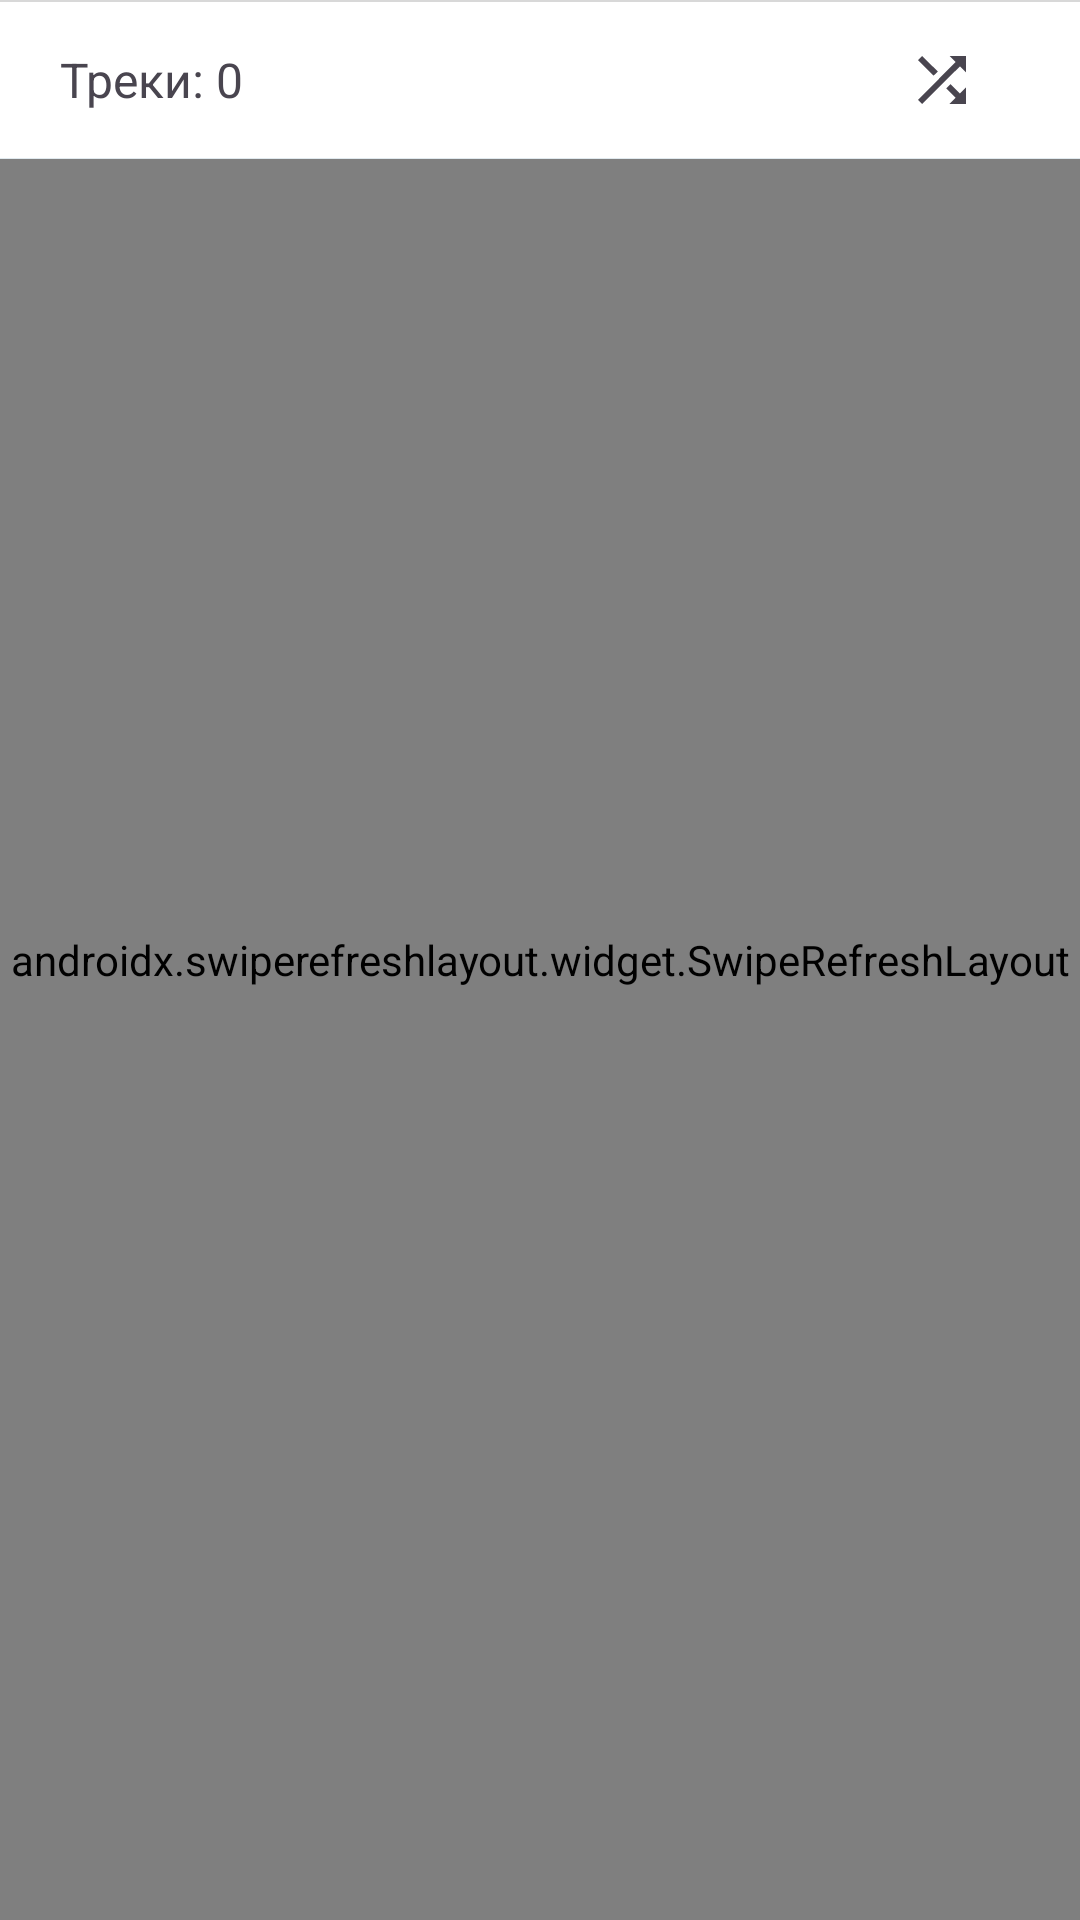

Where icons sit on this 1080×1920 app screen, as [left=x1, top=y1, right=x2, bottom=y2]:
shuffle: [left=918, top=56, right=966, bottom=104]
